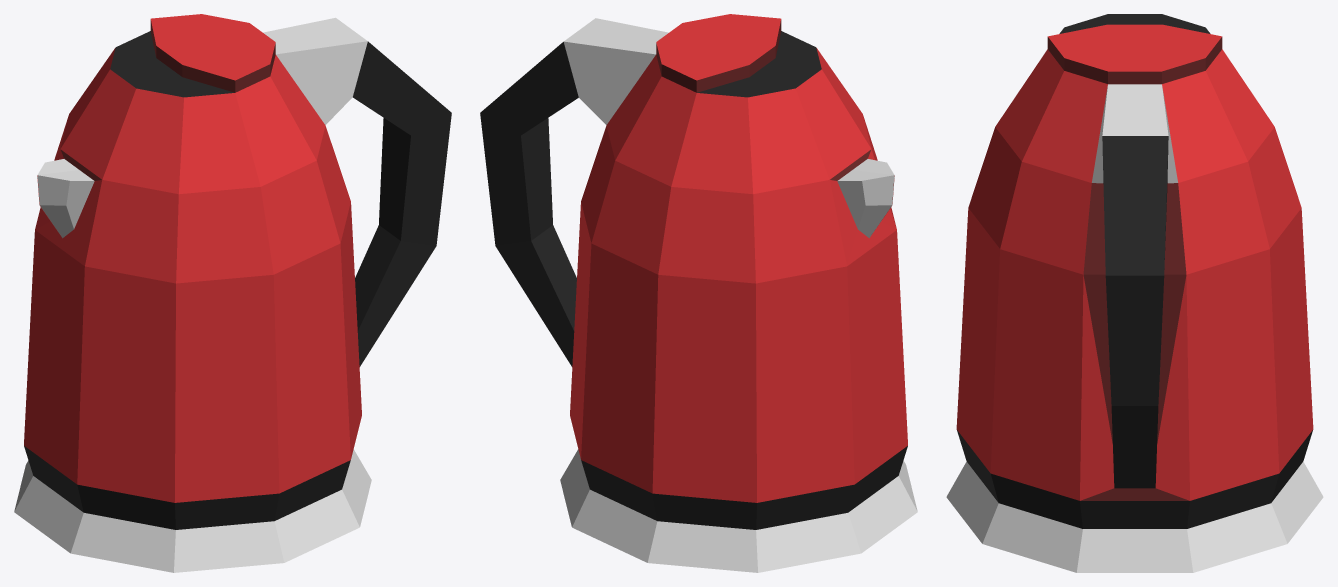
Rendered from teapot.fbx.
3 views of the same model, side by side, from view 1: azimuth 30°, elevation 25°; view 2: azimuth 150°, elevation 25°; view 3: azimuth 270°, elevation 25° (orthographic). The views are drawn at different scales.
Parts seen in each view (by area): view 1: Cylinder; view 2: Cylinder; view 3: Cylinder.
Boxes of the visible parts, x1,y1,x2,y2 form: Cylinder: (14,14,451,572); Cylinder: (480,14,917,572); Cylinder: (946,14,1323,572).
Size of the model in its own units: 253 by 269 by 200.
